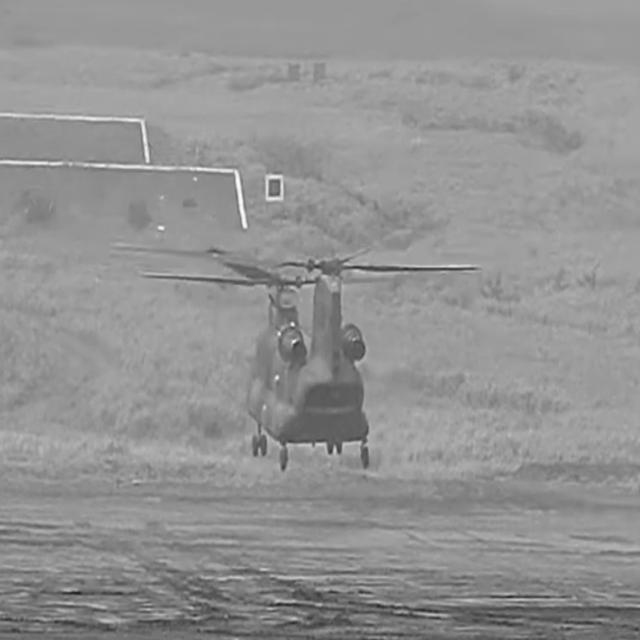Helicopter: (146, 252, 475, 470)
